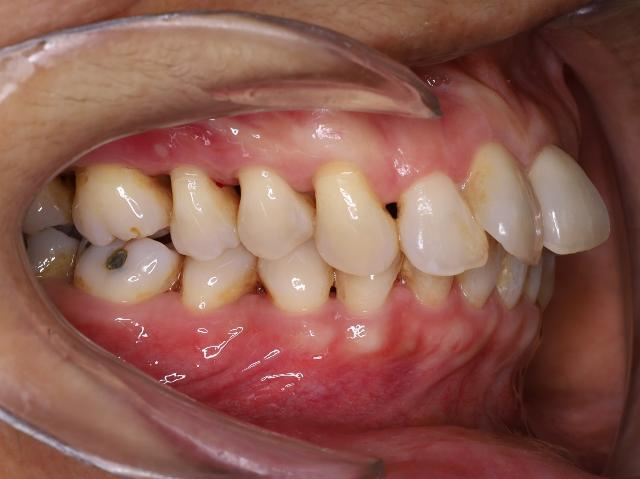canine class II 1/2: (255, 161, 402, 320)
molar class I: (65, 159, 181, 311)
